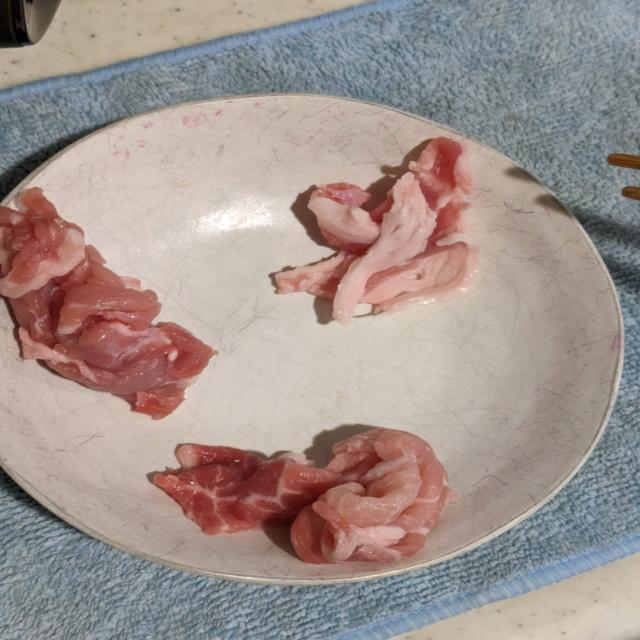NG raw pork,: (0, 179, 235, 431), (239, 131, 497, 326), (146, 417, 463, 570)
